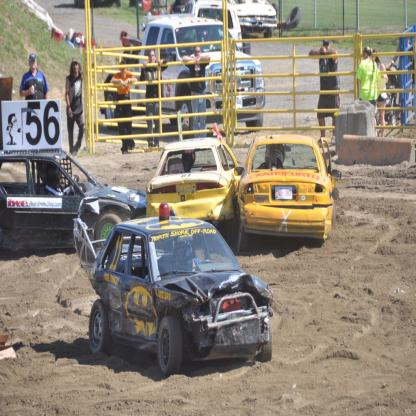Car: (83, 209, 277, 381), (1, 146, 148, 255), (235, 133, 343, 242), (146, 136, 241, 244)
